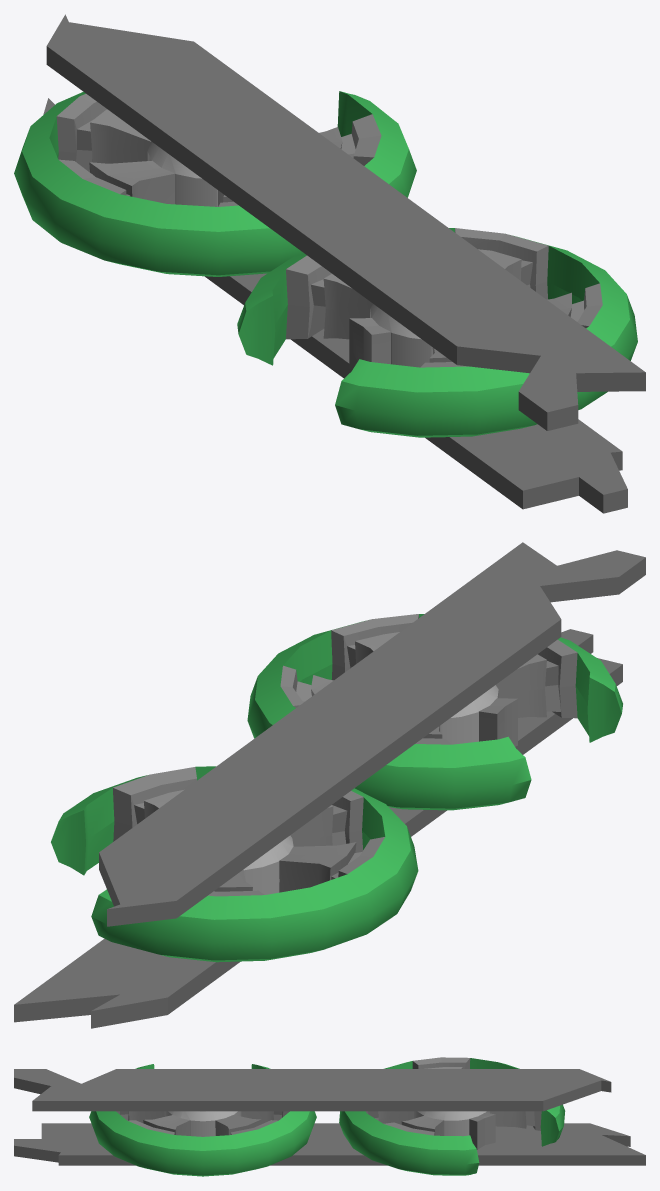
The model's file is RollerSkate.fbx.
3 views of the same model, one above another, from view 1: azimuth 30°, elevation 25°; view 2: azimuth 150°, elevation 25°; view 3: azimuth 270°, elevation 25° (orthographic). The views are drawn at different scales.
Parts seen in each view (by area): view 1: pCylinder5; view 2: pCylinder5; view 3: pCylinder5.
Part boxes in pixels (x1,y1,x2,y2): pCylinder5: [14, 14, 645, 513]; pCylinder5: [14, 542, 645, 1028]; pCylinder5: [14, 1057, 645, 1176].
Size of the model in its own units: 4.12 by 1.29 by 11.42.
